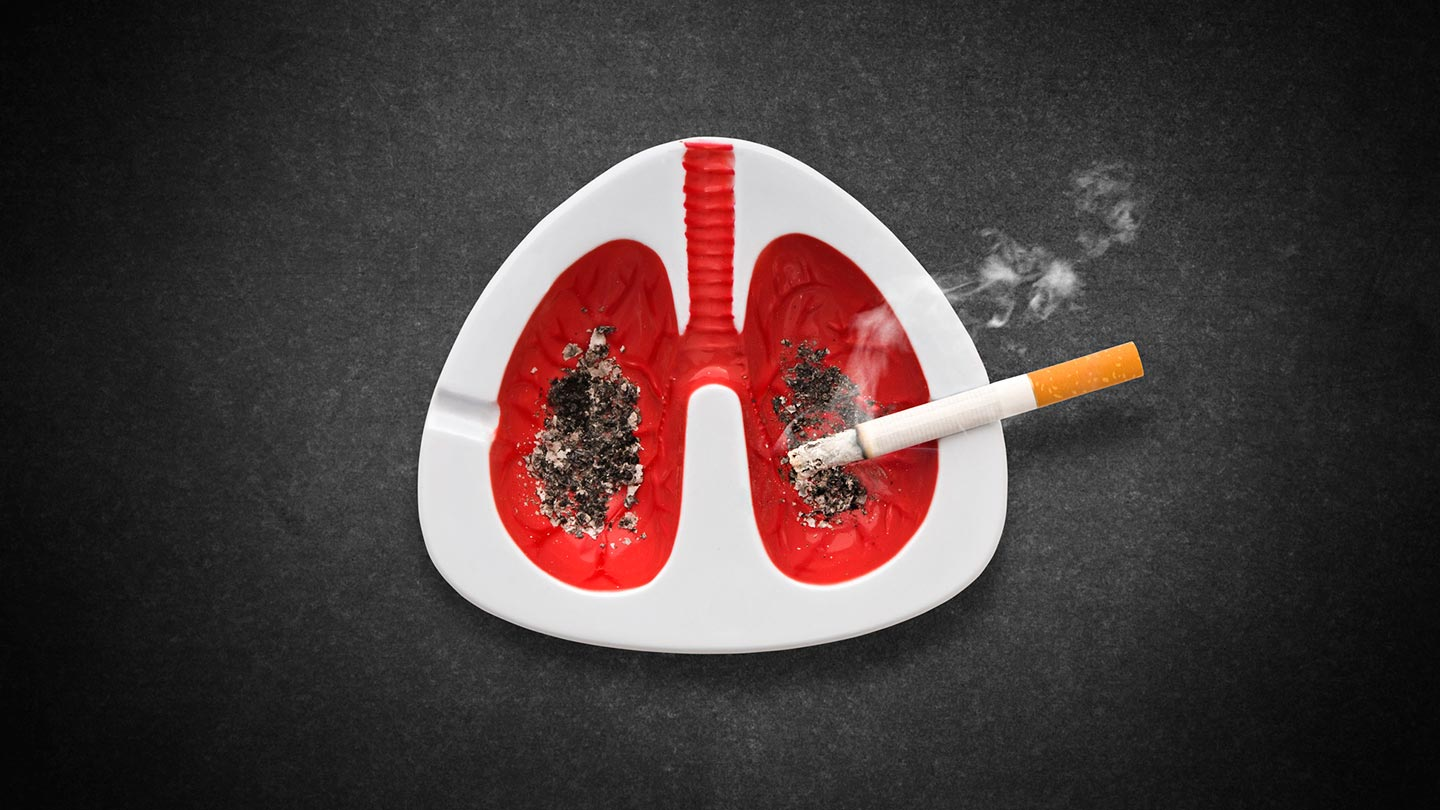cigarette: (778, 329, 1157, 492)
